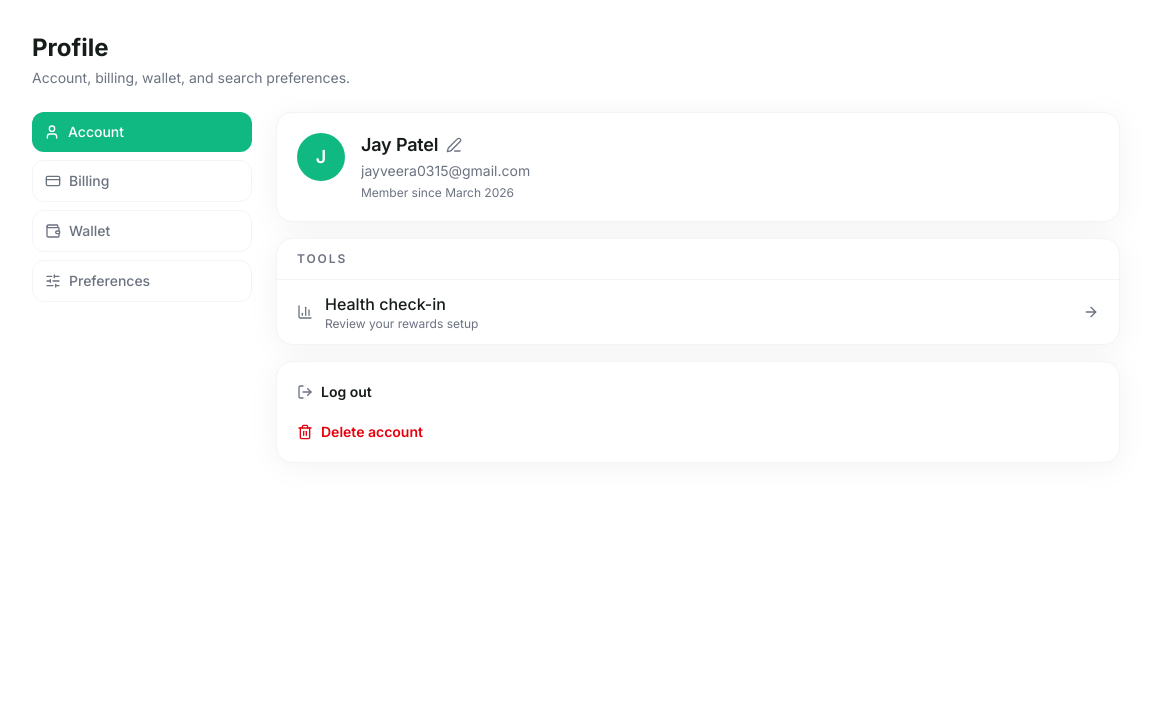
settings page subscription tab › schedules cancellation at period end and updates the subscription tab without removing access immediately
Click the button "Billing" at (142, 181), box [32,160,252,202]
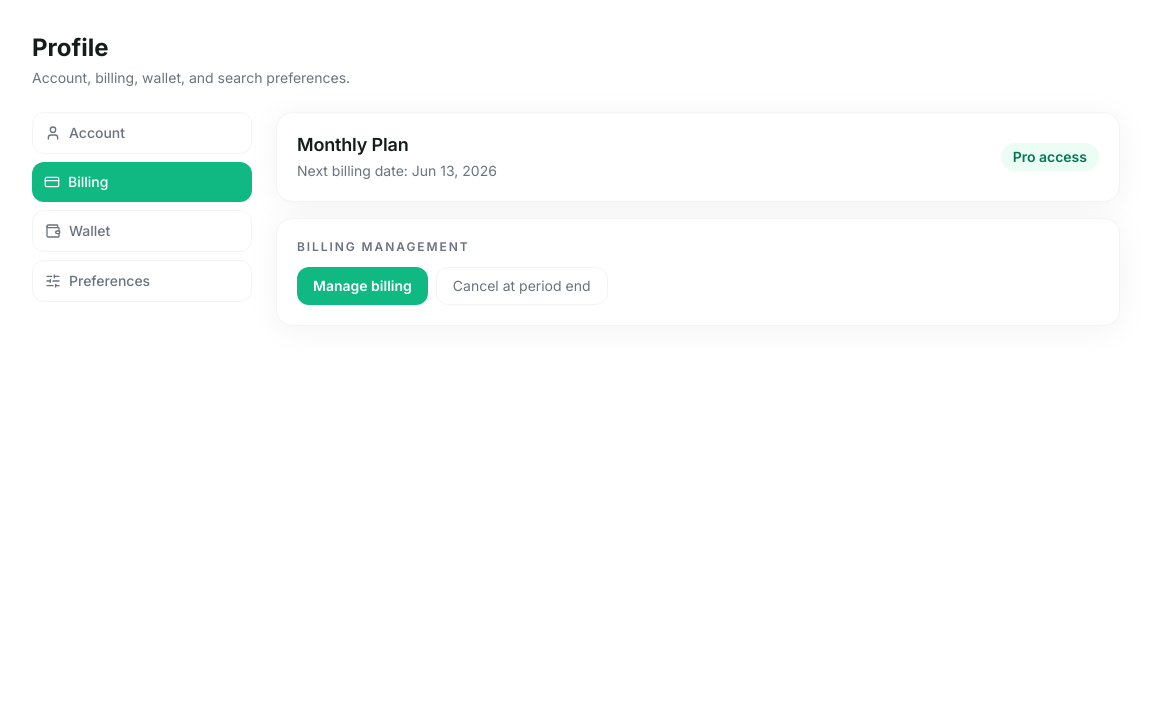
Click the button "Cancel at period end" at (522, 286), box [436,267,608,305]
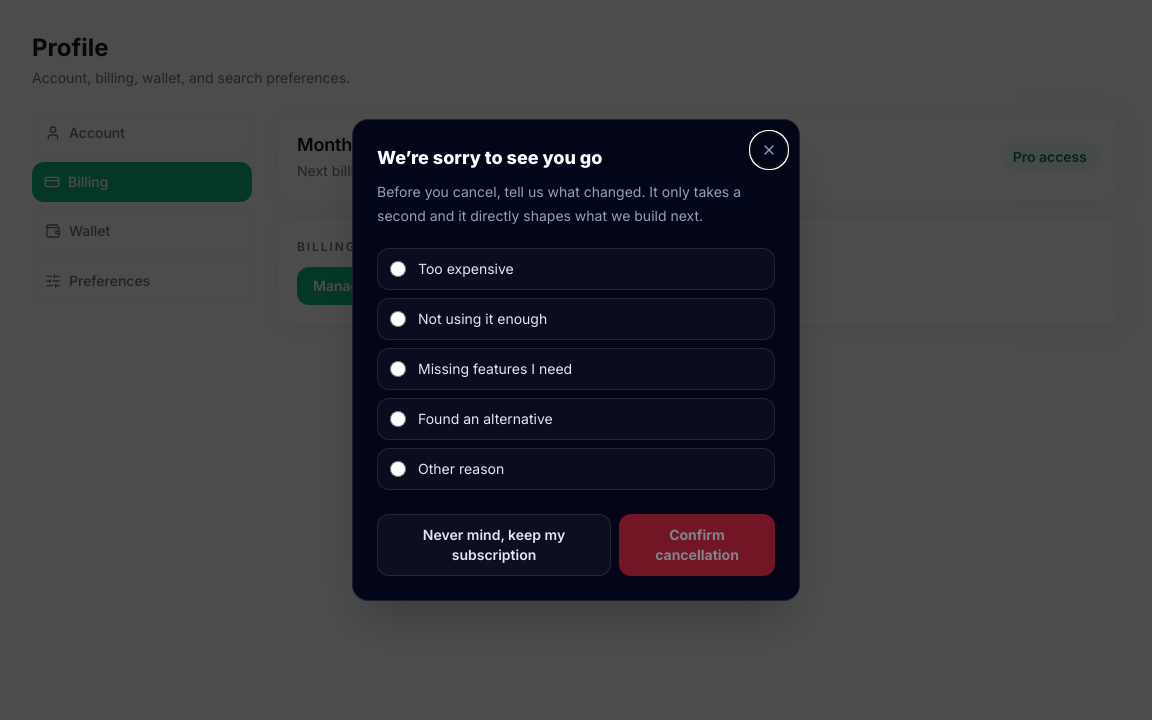
Result: the element with test id "cancel-reason-modal" is shown
Click the radio button labelled "Too expensive" at (398, 269), box [390,261,406,277]
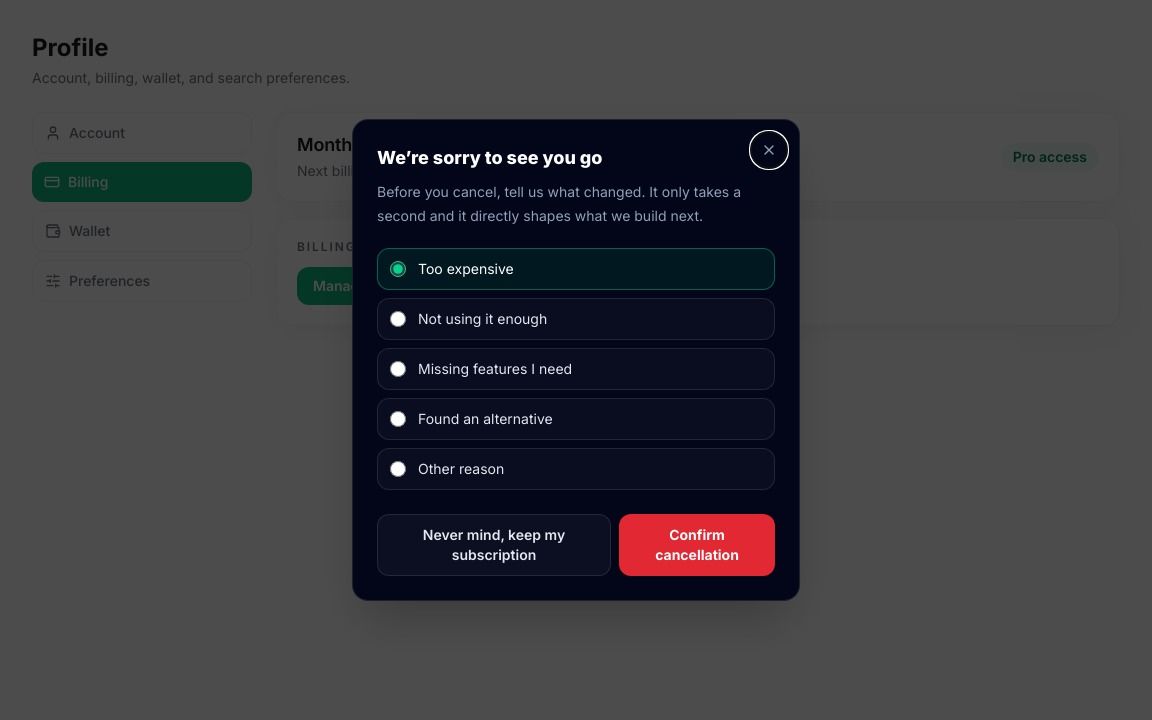
Click the button "Confirm cancellation" at (697, 545), box [619,514,775,576]
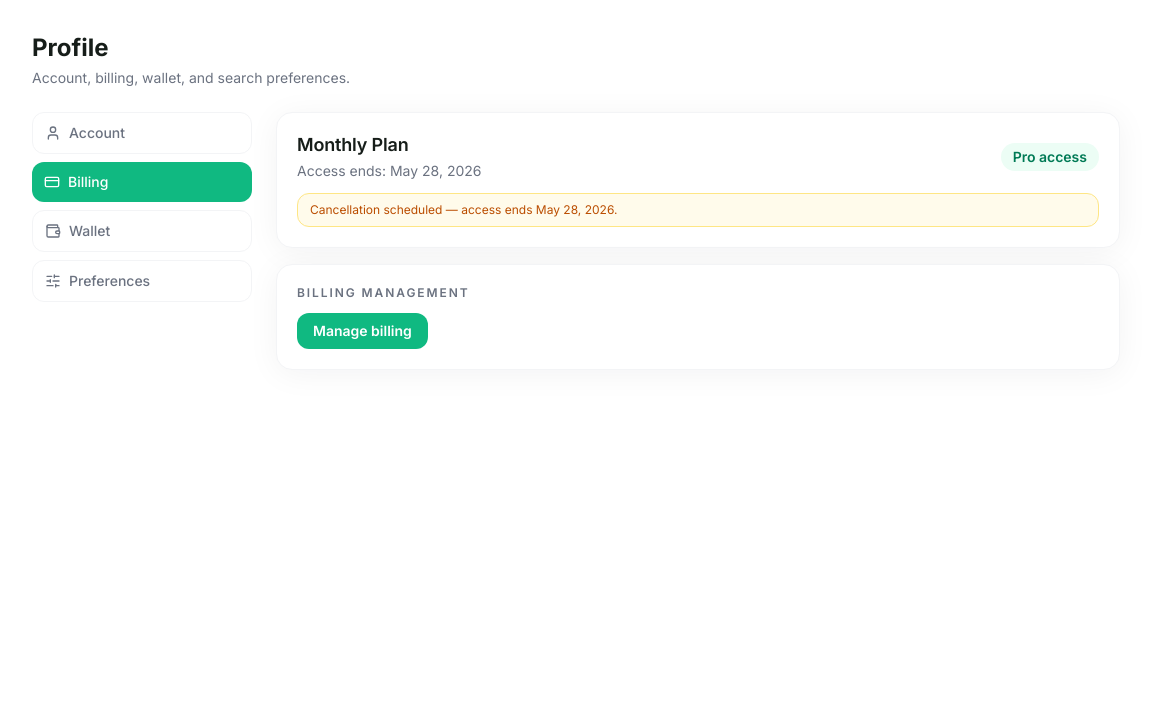
Result: the text "Pro access" is shown at [1001,143,1099,171]
Result: the text "Cancellation scheduled" is shown at [310,202,536,217]
